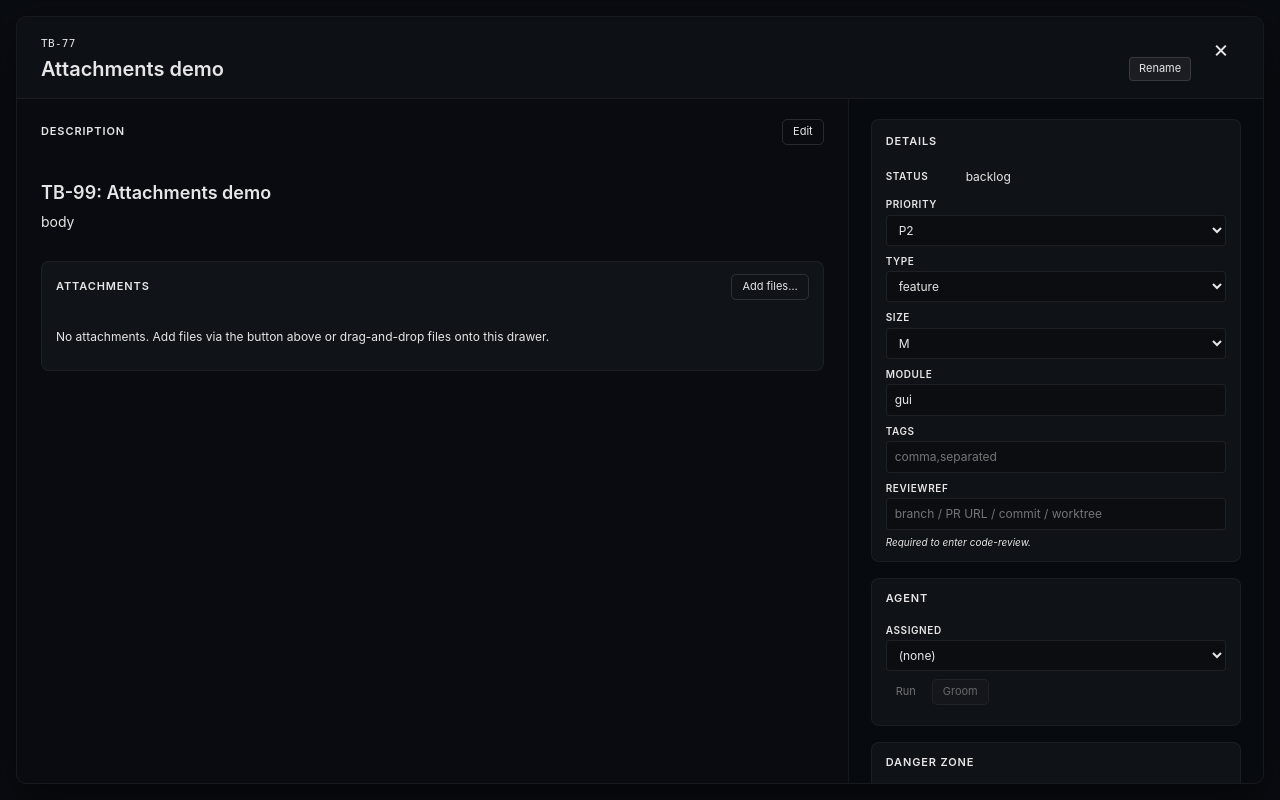
Test: TaskDrawer metadata autosave (TB-190) › shows error state and keeps draft intact when editTask rejects
The image size is (1280, 800).
Select "P0" in the dropdown below "Priority" at (1056, 230), box [886,215,1226,246]
Wait 605 ms
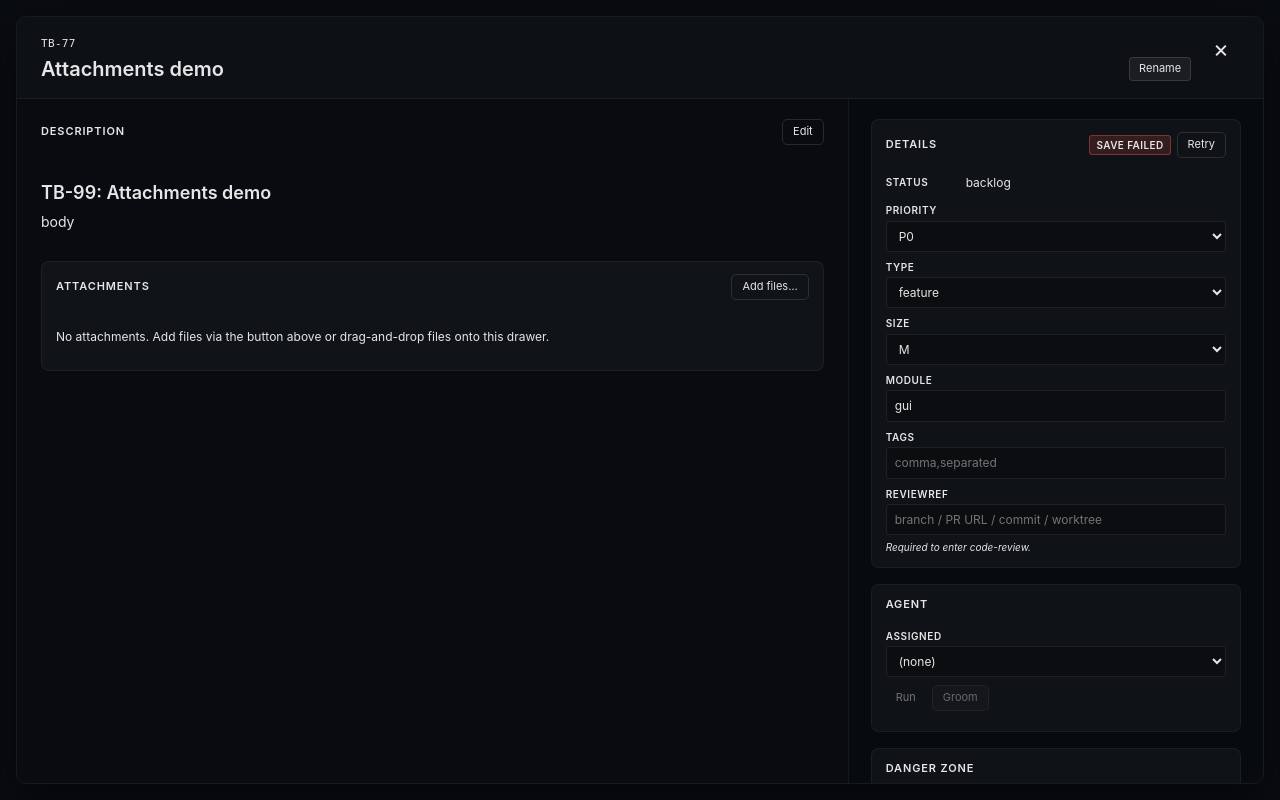
Expected: the button "Retry" is shown, [1177,132,1226,158]
